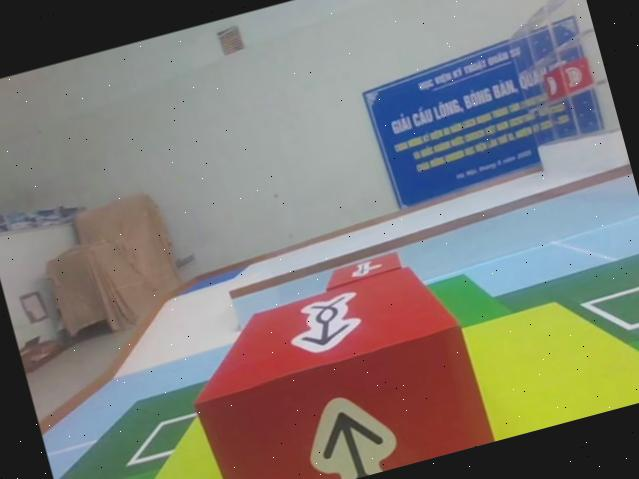R2 Real: (171, 253, 493, 479)
